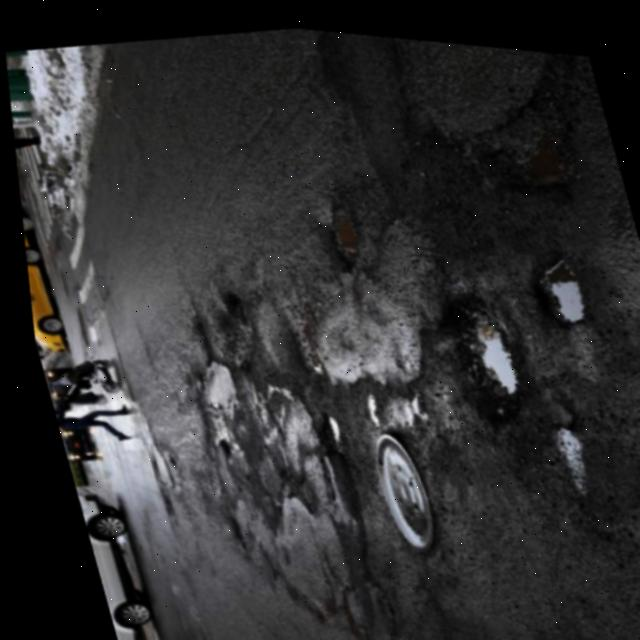Pothole: (427, 278, 528, 414), (484, 105, 582, 195), (511, 239, 593, 325), (173, 350, 245, 445), (200, 278, 258, 357), (313, 194, 363, 266), (537, 410, 585, 473), (386, 381, 425, 422), (346, 382, 380, 420), (309, 405, 340, 444), (197, 429, 227, 457)
